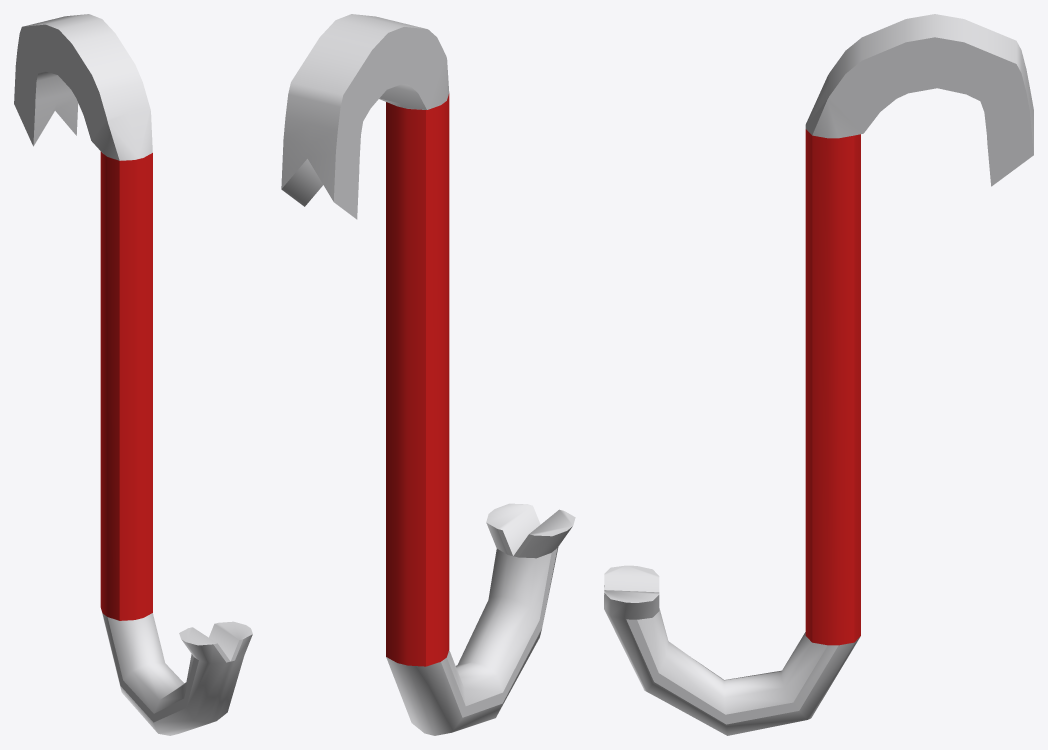
Rendered from Linggis.fbx.
The picture shows the model from 3 angles, left to right: view 1: azimuth 30°, elevation 25°; view 2: azimuth 150°, elevation 25°; view 3: azimuth 270°, elevation 25°; orthographic projection. The views are drawn at different scales.
Visible parts, largest first — view 1: Linggis; view 2: Linggis; view 3: Linggis.
Part boxes in pixels (bbox=[...]): Linggis: bbox=[14, 14, 252, 735]; Linggis: bbox=[281, 14, 575, 735]; Linggis: bbox=[604, 14, 1033, 735].
Size of the model in its own units: 6.3 by 59.39 by 32.71.
